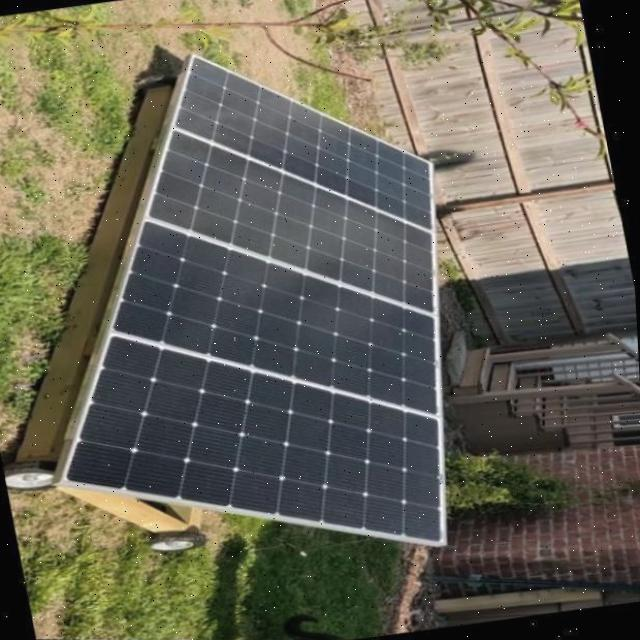Normal Solar Panel: (0, 30, 507, 598)
